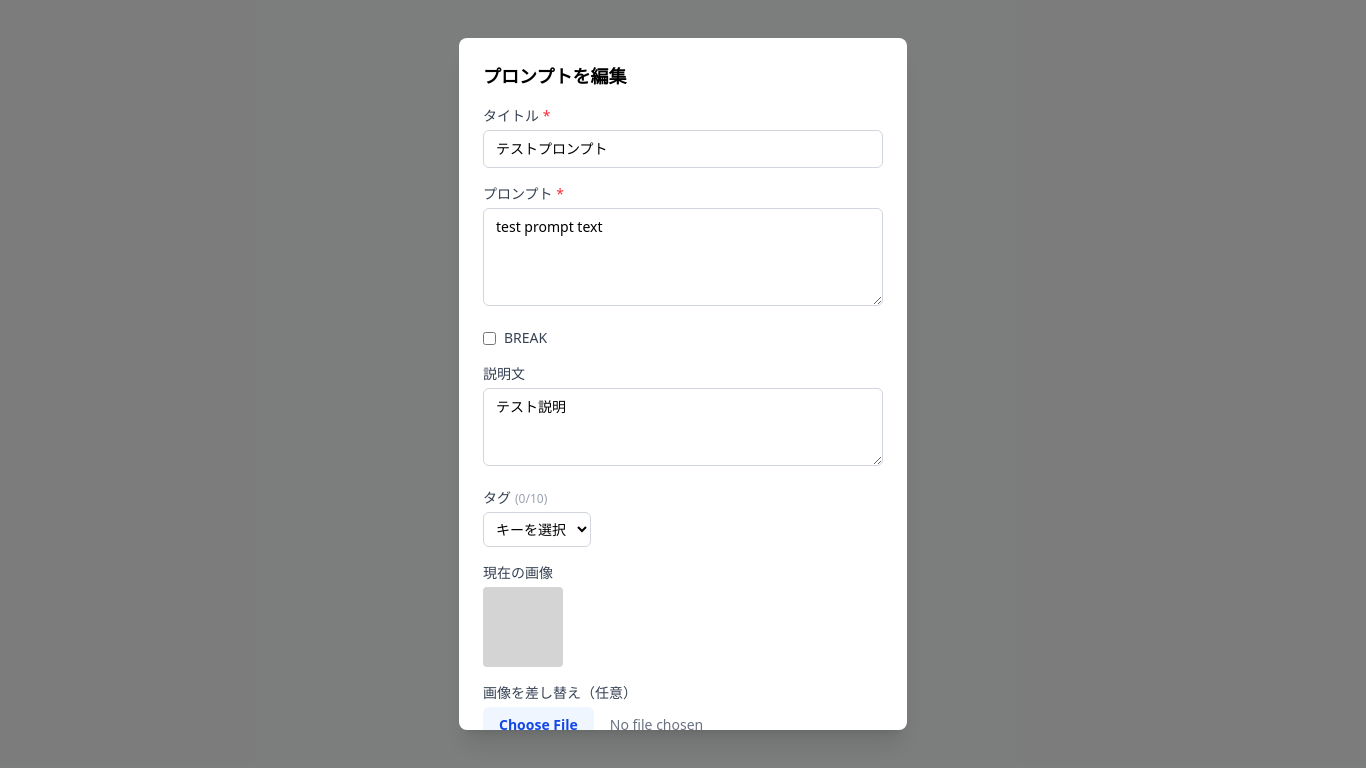
Test: PromptEditDialog › プロンプト空でバリデーションエラー
Clear the text box with test id "edit-prompt-input" at (683, 257), box [483,208,883,306]
(page scrolled)
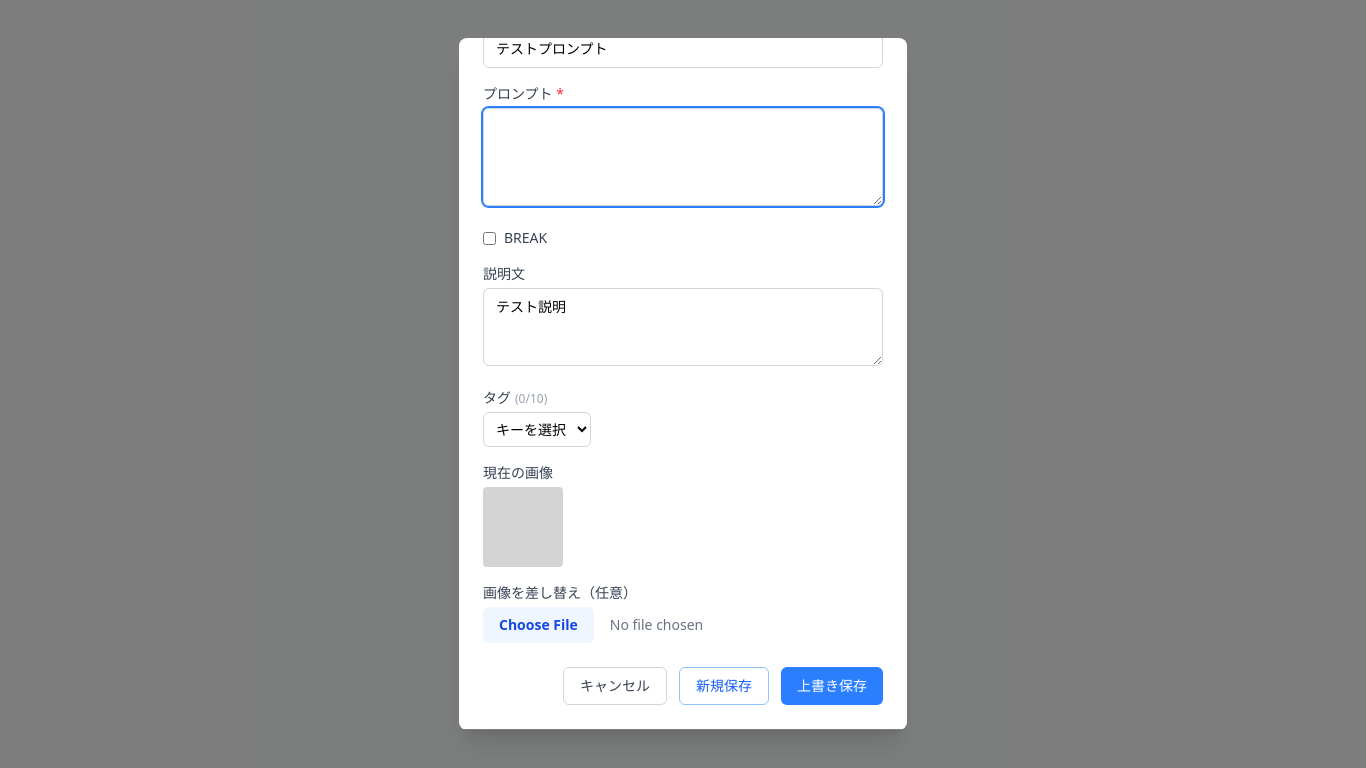
Click the button with test id "edit-prompt-save" at (832, 686), box [781,667,883,705]
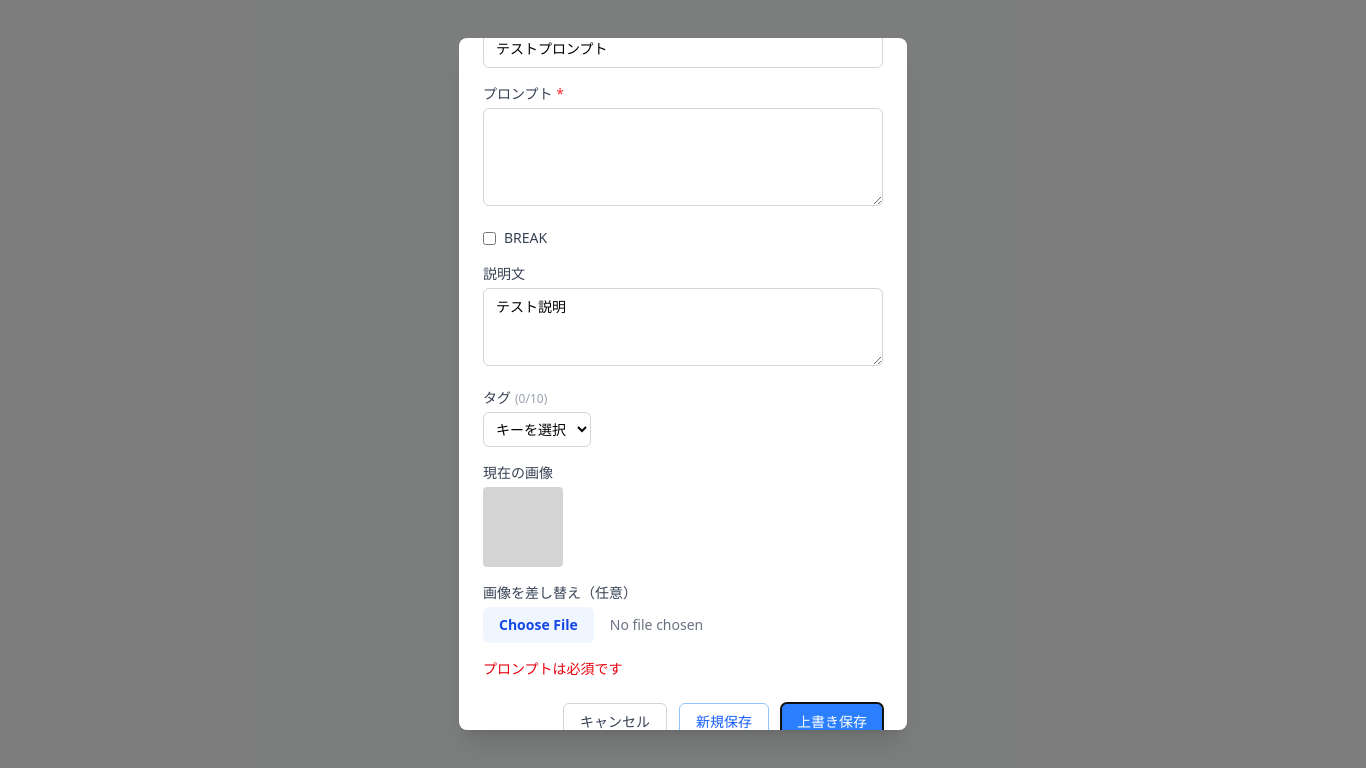
Check: the text with test id "edit-prompt-error" reads "プロンプトは必須です", box [483,659,623,678]
